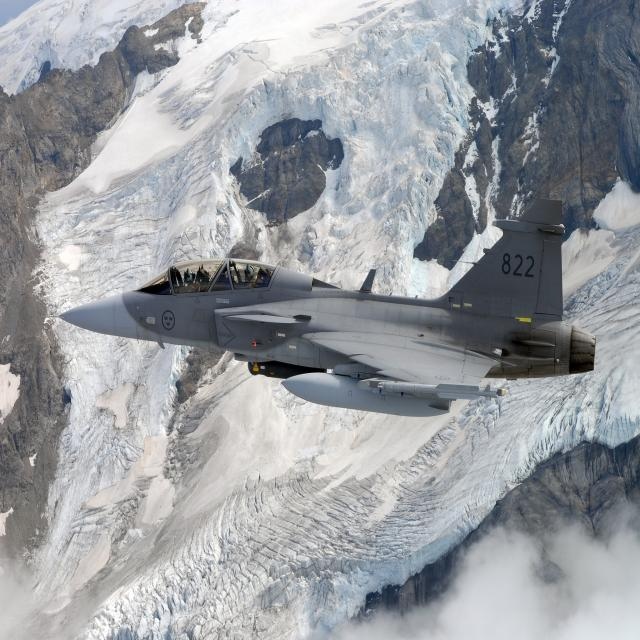MIL_Plane: (31, 198, 596, 416)
